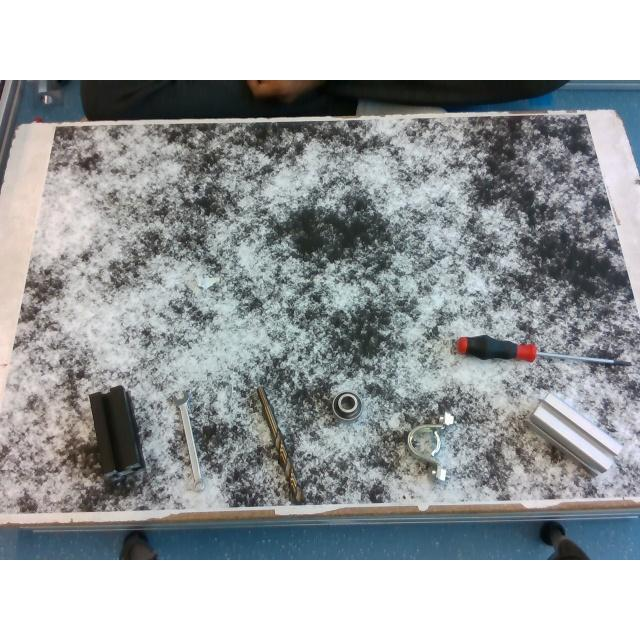Bearing2: (332, 392, 361, 421)
Drill: (257, 386, 303, 502)
Housing: (406, 411, 458, 481)
S40_40_B: (89, 386, 143, 486)
S40_40_G: (529, 393, 621, 473)
